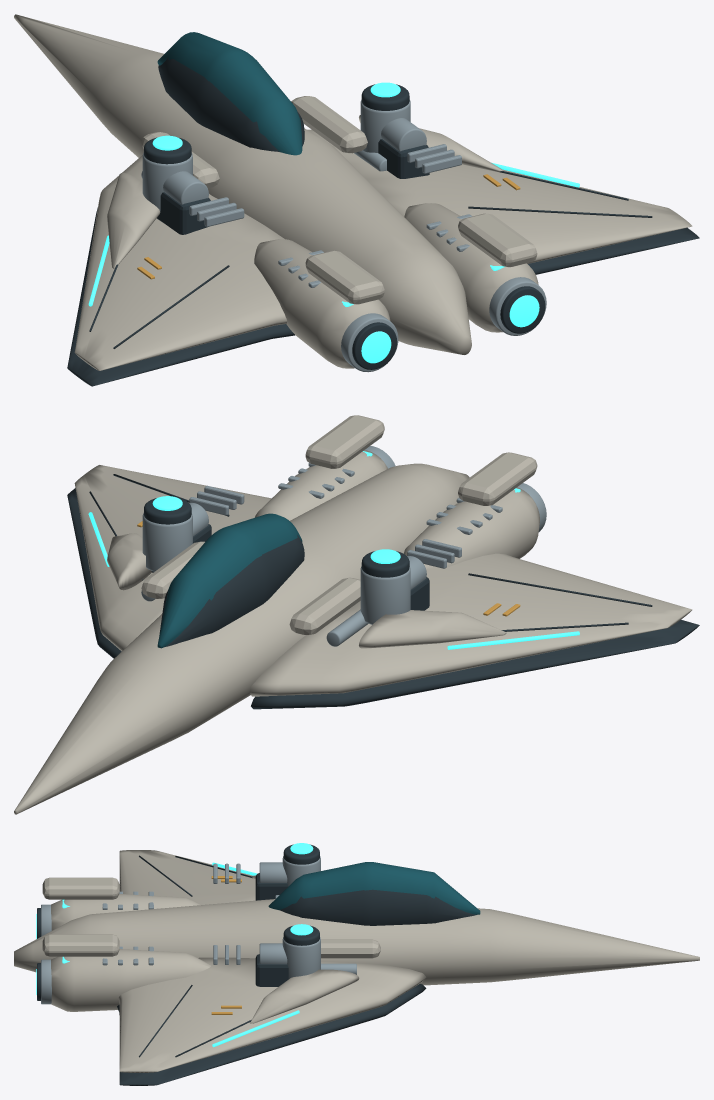
The model's file is common-1.glb.
The picture shows the model from 3 angles, top to bottom: view 1: azimuth 30°, elevation 25°; view 2: azimuth 150°, elevation 25°; view 3: azimuth 270°, elevation 25°; orthographic projection. The views are drawn at different scales.
Visible parts, largest first — view 1: SM_Hull, SM_Wing_Left, SM_Wing_Right, SM_Engine_Left, SM_Engine_Right, SM_Stage03, SM_Stage04, SM_Stage01, SM_Stage02; view 2: SM_Hull, SM_Wing_Left, SM_Wing_Right, SM_Stage03, SM_Stage04, SM_Engine_Left, SM_Stage02, SM_Engine_Right, SM_Stage01, SM_Weapon_Left; view 3: SM_Hull, SM_Wing_Right, SM_Engine_Right, SM_Wing_Left, SM_Stage03, SM_Stage04, SM_Engine_Left, SM_Stage02, SM_Stage01.
Part boxes in pixels (x1=…): SM_Hull: x1=14, y1=14, x2=471, y2=354; SM_Wing_Left: x1=67, y1=155, x2=294, y2=386; SM_Wing_Right: x1=307, y1=129, x2=699, y2=274; SM_Engine_Left: x1=254, y1=239, x2=398, y2=372; SM_Engine_Right: x1=404, y1=203, x2=546, y2=335; SM_Stage03: x1=189, y1=144, x2=537, y2=304; SM_Stage04: x1=142, y1=82, x2=410, y2=211; SM_Stage01: x1=157, y1=118, x2=429, y2=234; SM_Stage02: x1=107, y1=115, x2=505, y2=268; SM_Hull: x1=14, y1=463, x2=469, y2=814; SM_Wing_Left: x1=249, y1=553, x2=699, y2=709; SM_Wing_Right: x1=67, y1=465, x2=271, y2=658; SM_Stage03: x1=189, y1=415, x2=537, y2=568; SM_Stage04: x1=142, y1=496, x2=410, y2=624; SM_Engine_Left: x1=403, y1=483, x2=546, y2=568; SM_Stage02: x1=107, y1=533, x2=506, y2=648; SM_Engine_Right: x1=255, y1=446, x2=395, y2=520; SM_Stage01: x1=151, y1=503, x2=429, y2=610; SM_Weapon_Left: x1=326, y1=609, x2=368, y2=646; SM_Hull: x1=14, y1=862, x2=699, y2=985; SM_Wing_Right: x1=117, y1=957, x2=426, y2=1085; SM_Engine_Right: x1=36, y1=946, x2=210, y2=1011; SM_Wing_Left: x1=119, y1=850, x2=257, y2=904; SM_Stage03: x1=42, y1=863, x2=240, y2=964; SM_Stage04: x1=282, y1=843, x2=320, y2=978; SM_Engine_Left: x1=36, y1=891, x2=200, y2=938; SM_Stage02: x1=250, y1=875, x2=359, y2=1023; SM_Stage01: x1=255, y1=862, x2=288, y2=986.
Bounding box in the file's own units: 5.58 × 1.39 × 7.15.
